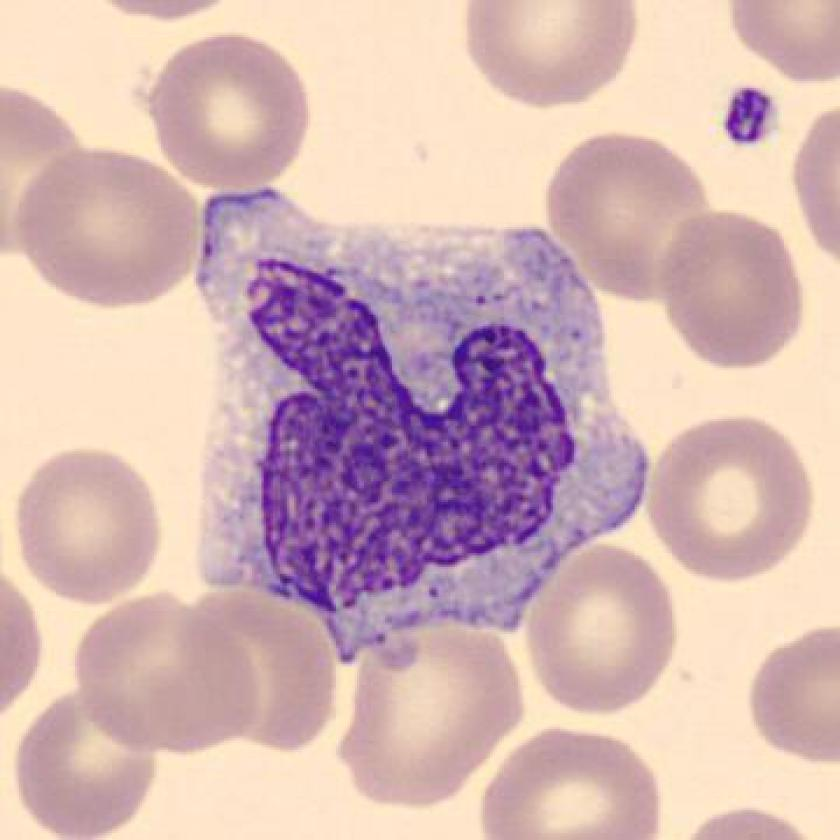monocyte: (176, 175, 668, 688)
